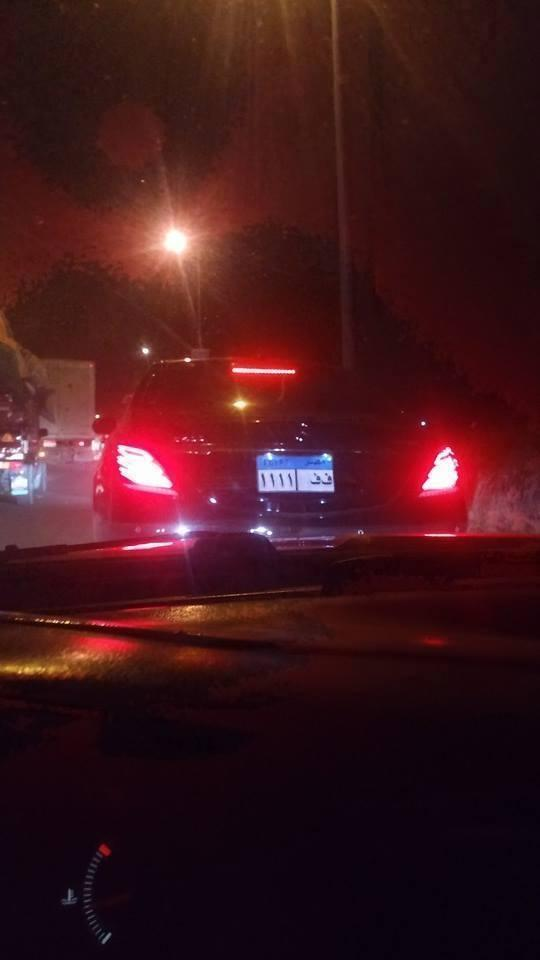1: (277, 470, 285, 488), (269, 470, 276, 488), (260, 471, 267, 489), (286, 471, 293, 488)
F: (321, 469, 332, 487), (309, 470, 321, 486)
License Plate: (254, 451, 337, 495)
car: (101, 361, 461, 536), (0, 394, 49, 507)
